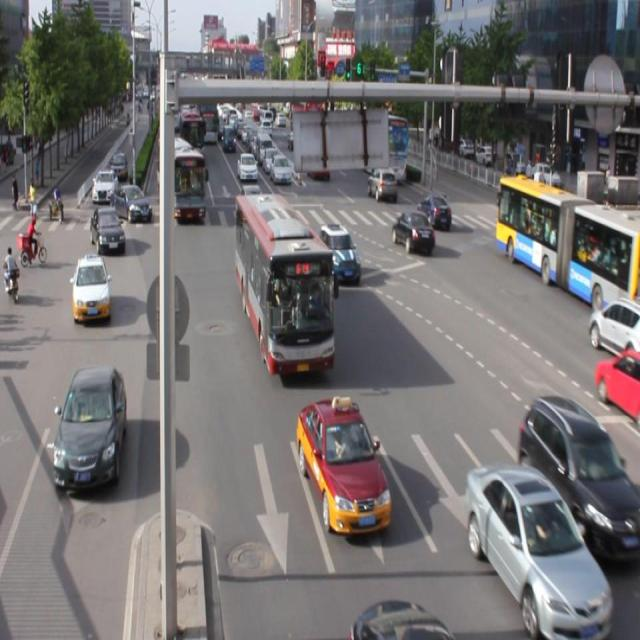car: (464, 458, 612, 640), (516, 392, 640, 559), (296, 394, 391, 530), (53, 363, 129, 488), (593, 347, 640, 421), (586, 294, 640, 358), (317, 220, 360, 283), (391, 207, 434, 249), (417, 192, 452, 228)
van: (496, 173, 640, 315), (236, 193, 334, 369)
